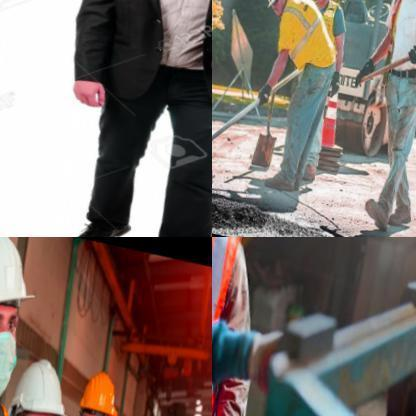vest: (212, 237, 262, 415), (267, 0, 347, 76), (369, 0, 415, 96), (301, 0, 348, 51)
